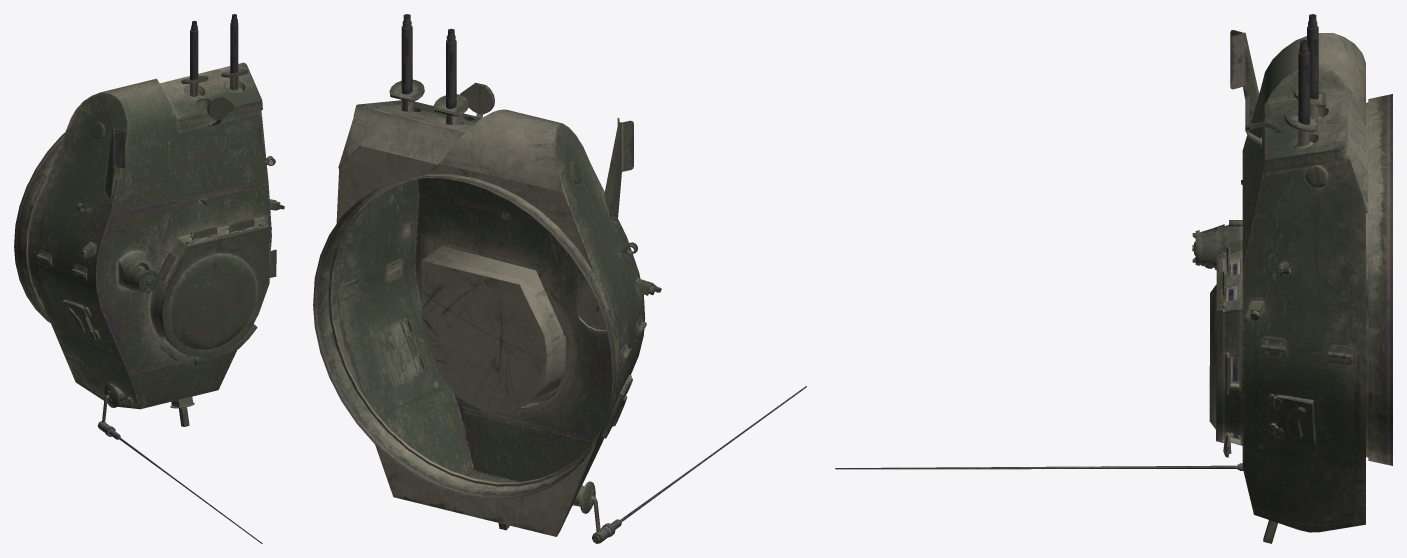
The model's file is Turret_01.glb.
The picture shows the model from 3 angles, left to right: view 1: azimuth 30°, elevation 25°; view 2: azimuth 150°, elevation 25°; view 3: azimuth 270°, elevation 25°; orthographic projection. The views are drawn at different scales.
Parts seen in each view (by area): view 1: set_0_group_0; view 2: set_0_group_0; view 3: set_0_group_0.
Boxes of the visible parts, x1=… form: set_0_group_0: x1=14, y1=14, x2=284, y2=543; set_0_group_0: x1=313, y1=14, x2=806, y2=543; set_0_group_0: x1=835, y1=14, x2=1392, y2=543.
Size of the model in its own units: 1.41 by 2.28 by 2.12.
Materials: 1 (1 with a texture image).
